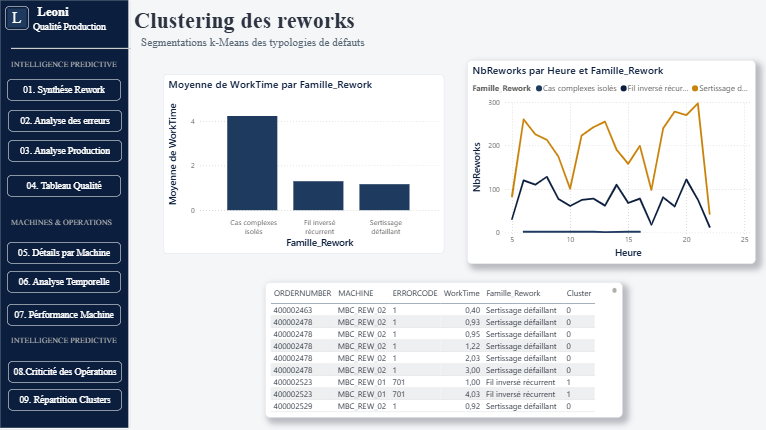

What the dashboard file says about the page in this screenshot:
{"tool":"powerbi","page":{"name":"Page 10","canvas":[1280,720],"ordinal":8},"visuals":[{"type":"clusteredColumnChart","fields":{"Category":["Sheet2.Famille_Rework"],"Y":["Avg(Sheet2.WorkTime)"]},"box":[274.3,127.1,468.6,300],"z":0},{"type":"lineChart","fields":{"Category":["Sheet2.Heure"],"Y":["Sheet2.NbReworks"],"Series":["Sheet2.Famille_Rework"]},"box":[781.4,102.9,481.4,340],"z":1000},{"type":"tableEx","fields":{"Values":["Sheet2.ORDERNUMBER","Sheet2.MACHINE","Sheet2.ERRORCODE","Sheet2.WorkTime","Sheet2.Famille_Rework","Sheet2.Cluster"]},"box":[444.3,472.9,595.7,225.7],"z":3000},{"type":"shape","box":[0,0,221.4,720],"z":4000},{"type":"shape","box":[11.4,12.9,40,40],"z":5000},{"type":"textbox","box":[51.4,7.1,80,45.7],"z":6000},{"type":"textbox","box":[17.1,35.7,204.3,38.6],"z":7000},{"type":"shape","box":[21.4,22.9,200,121.4],"z":8000},{"type":"actionButton","box":[15.7,134.3,190,35.7],"z":9000},{"type":"actionButton","box":[17.1,187.1,190,35.7],"z":10000},{"type":"actionButton","box":[17.1,237.1,190,35.7],"z":11000},{"type":"actionButton","box":[15.7,294.3,190,35.7],"z":12000},{"type":"actionButton","box":[15.7,407.1,190,35.7],"z":13000},{"type":"actionButton","box":[15.7,454.3,190,35.7],"z":14000},{"type":"actionButton","box":[15.7,510,190,35.7],"z":15000},{"type":"actionButton","box":[17.1,604.3,190,35.7],"z":16000},{"type":"actionButton","box":[17.1,651.4,190,35.7],"z":17000},{"type":"textbox","box":[17.1,557.1,188.6,30],"z":18000},{"type":"textbox","box":[17.1,360,188.6,30],"z":19000},{"type":"textbox","box":[17.1,97.1,194.3,30],"z":20000},{"type":"textbox","box":[232.9,58.6,477.1,52.9],"z":21000},{"type":"textbox","box":[221.4,11.4,1041.4,74.3],"z":22000}]}

Visuals, with their boxes on the page's 1280x720 design canvas (x1, y1, x2, y2). These are canvas units, not pixel positions in the 766x430 screenshot, which may show the page scaled, cropped or inside an application window:
clusteredColumnChart - Sheet2.Famille_Rework x Avg(Sheet2.WorkTime): (274, 127, 743, 427)
lineChart - Sheet2.Heure x Sheet2.NbReworks: (781, 103, 1263, 443)
tableEx - Sheet2.ORDERNUMBER x Sheet2.MACHINE: (444, 473, 1040, 699)
shape: (0, 0, 221, 720)
shape: (11, 13, 51, 53)
textbox: (51, 7, 131, 53)
textbox: (17, 36, 221, 74)
shape: (21, 23, 221, 144)
actionButton: (16, 134, 206, 170)
actionButton: (17, 187, 207, 223)
actionButton: (17, 237, 207, 273)
actionButton: (16, 294, 206, 330)
actionButton: (16, 407, 206, 443)
actionButton: (16, 454, 206, 490)
actionButton: (16, 510, 206, 546)
actionButton: (17, 604, 207, 640)
actionButton: (17, 651, 207, 687)
textbox: (17, 557, 206, 587)
textbox: (17, 360, 206, 390)
textbox: (17, 97, 211, 127)
textbox: (233, 59, 710, 112)
textbox: (221, 11, 1263, 86)
